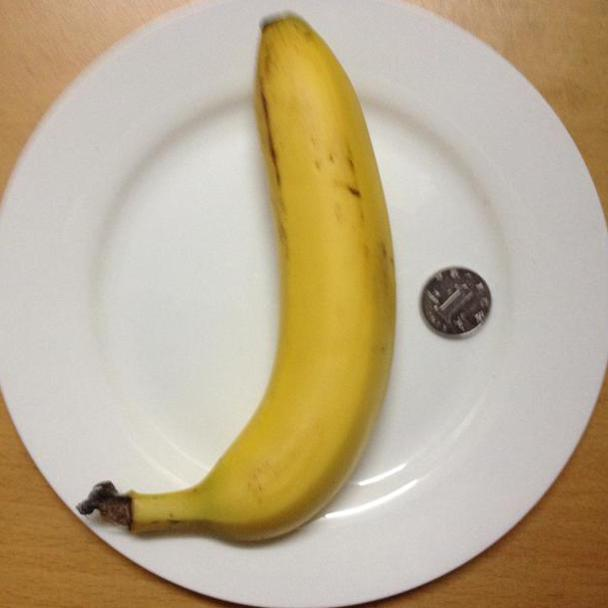banana: (189, 13, 418, 544)
